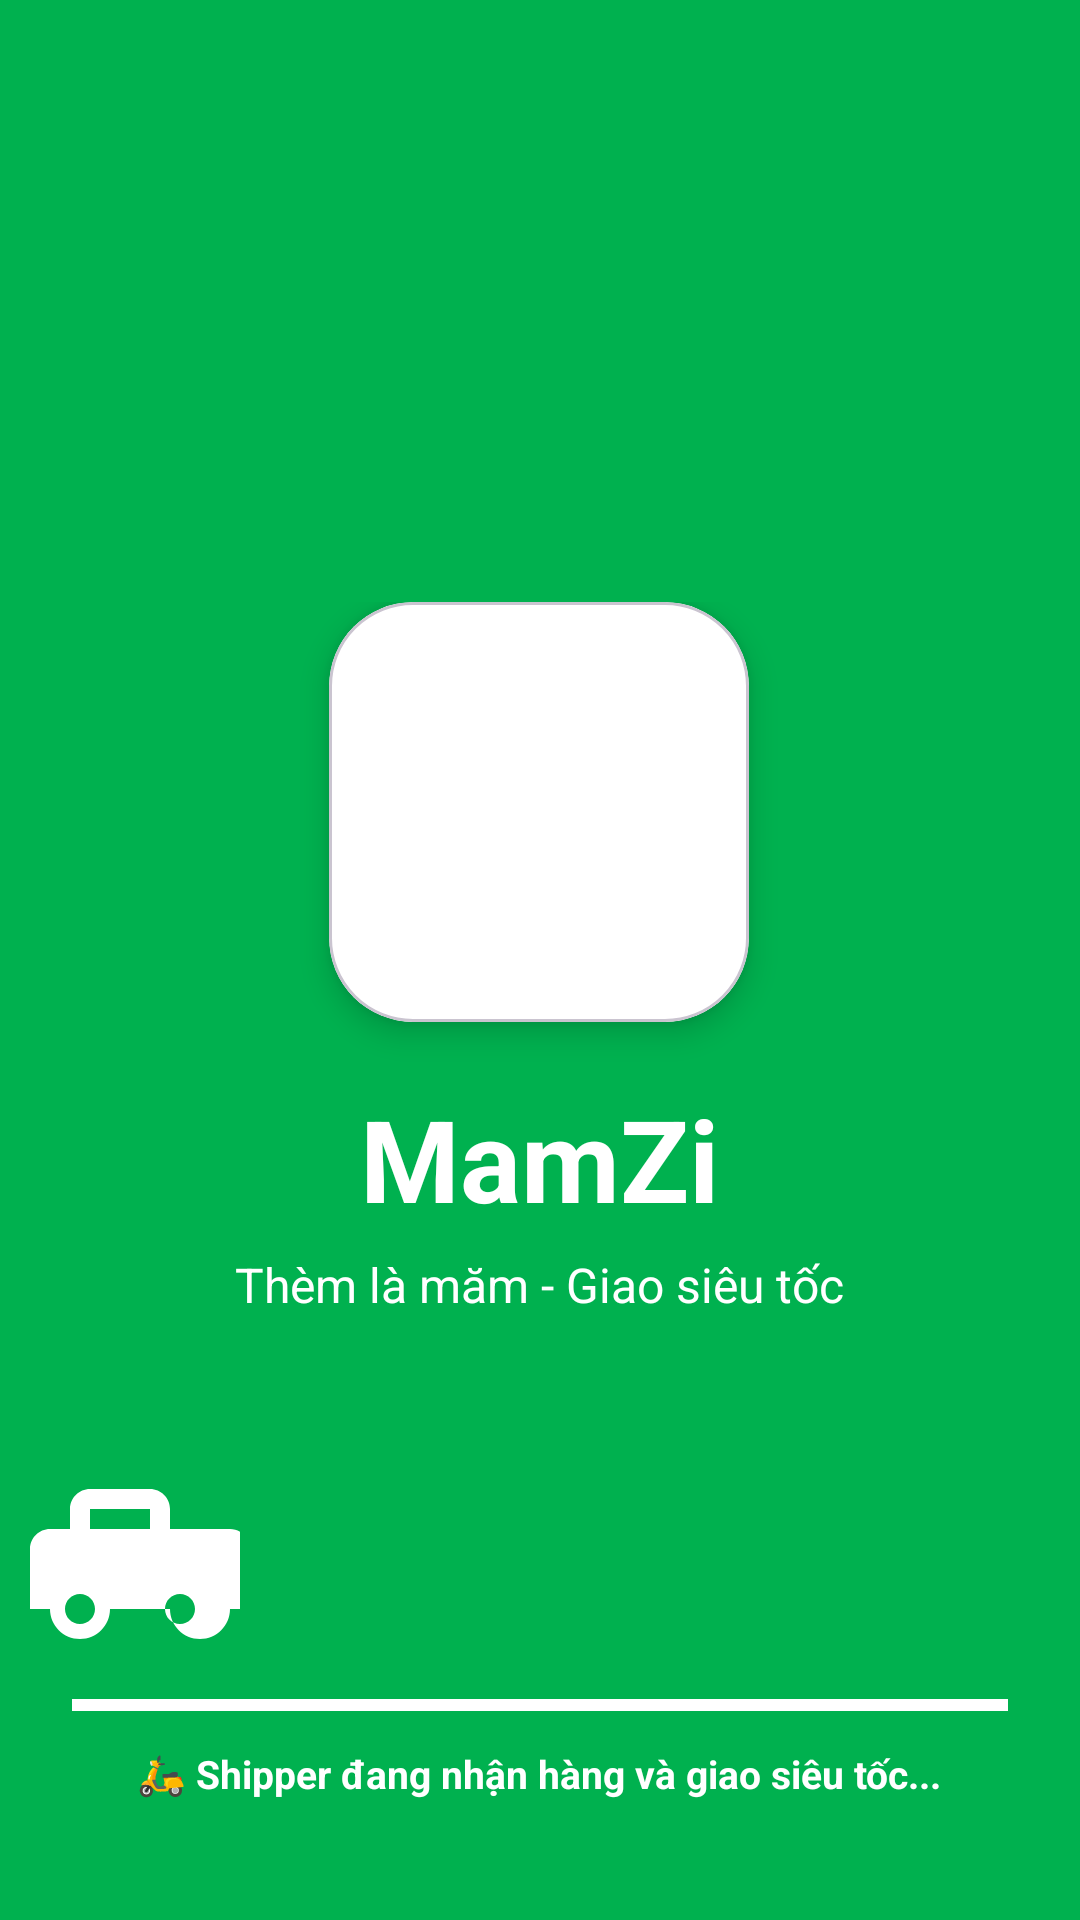

Screen size 1080px×1920px. Icon name, then its box in pixels as (x1, y1, x2, y2):
Shipper Animation: (30, 1489, 240, 1639)
